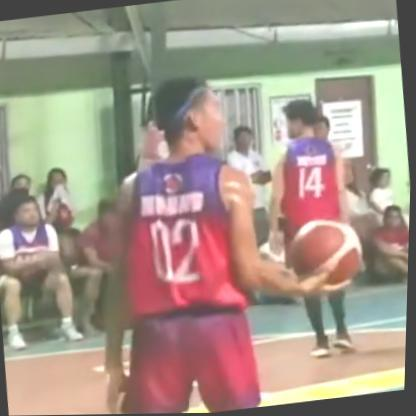basketball: (278, 214, 370, 301)
